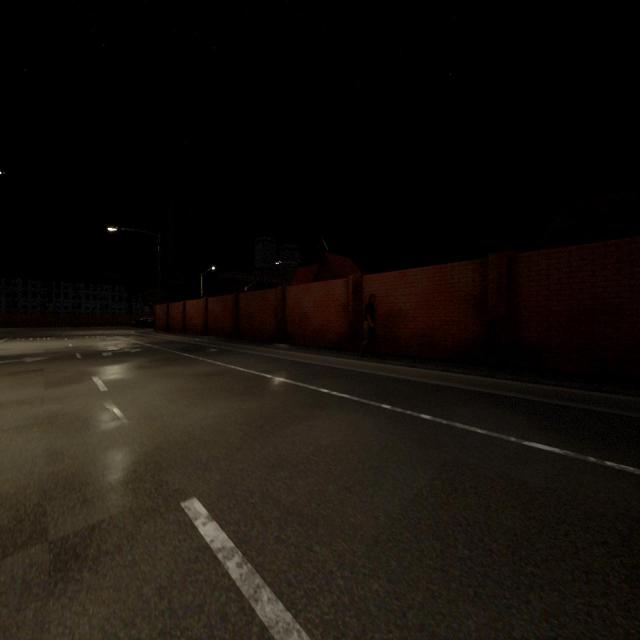Pedestrian: (362, 294, 376, 352)
Vehicle: (133, 317, 153, 328)
